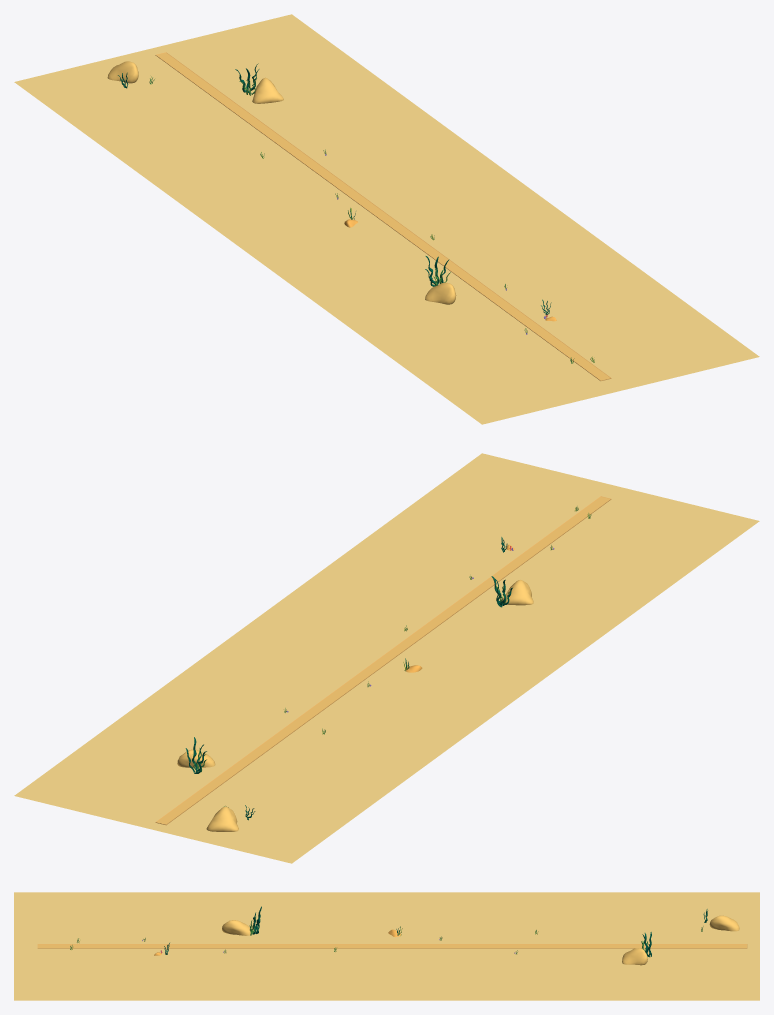
The model's file is level.fbx.
3 views of the same model, one above another, from view 1: azimuth 30°, elevation 25°; view 2: azimuth 150°, elevation 25°; view 3: azimuth 270°, elevation 25° (orthographic). The views are drawn at different scales.
Parts seen in each view (by area): view 1: Plane, Plane.002, Plane.001; view 2: Plane, Plane.002, Plane.001; view 3: Plane, Plane.002, Plane.001, rock.004, rock.002, rock.032.
Boxes of the visible parts, x1,y1,x2,y2 form: Plane: [14, 14, 759, 424]; Plane.002: [156, 53, 610, 380]; Plane.001: [155, 52, 611, 380]; Plane: [14, 453, 759, 863]; Plane.002: [156, 497, 610, 824]; Plane.001: [155, 496, 611, 825]; Plane: [14, 892, 759, 1000]; Plane.002: [38, 944, 746, 948]; Plane.001: [37, 944, 747, 948]; rock.004: [709, 915, 739, 931]; rock.002: [622, 948, 647, 965]; rock.032: [222, 920, 250, 935].
Size of the model in its own units: 20533 by 2969 by 59919.
